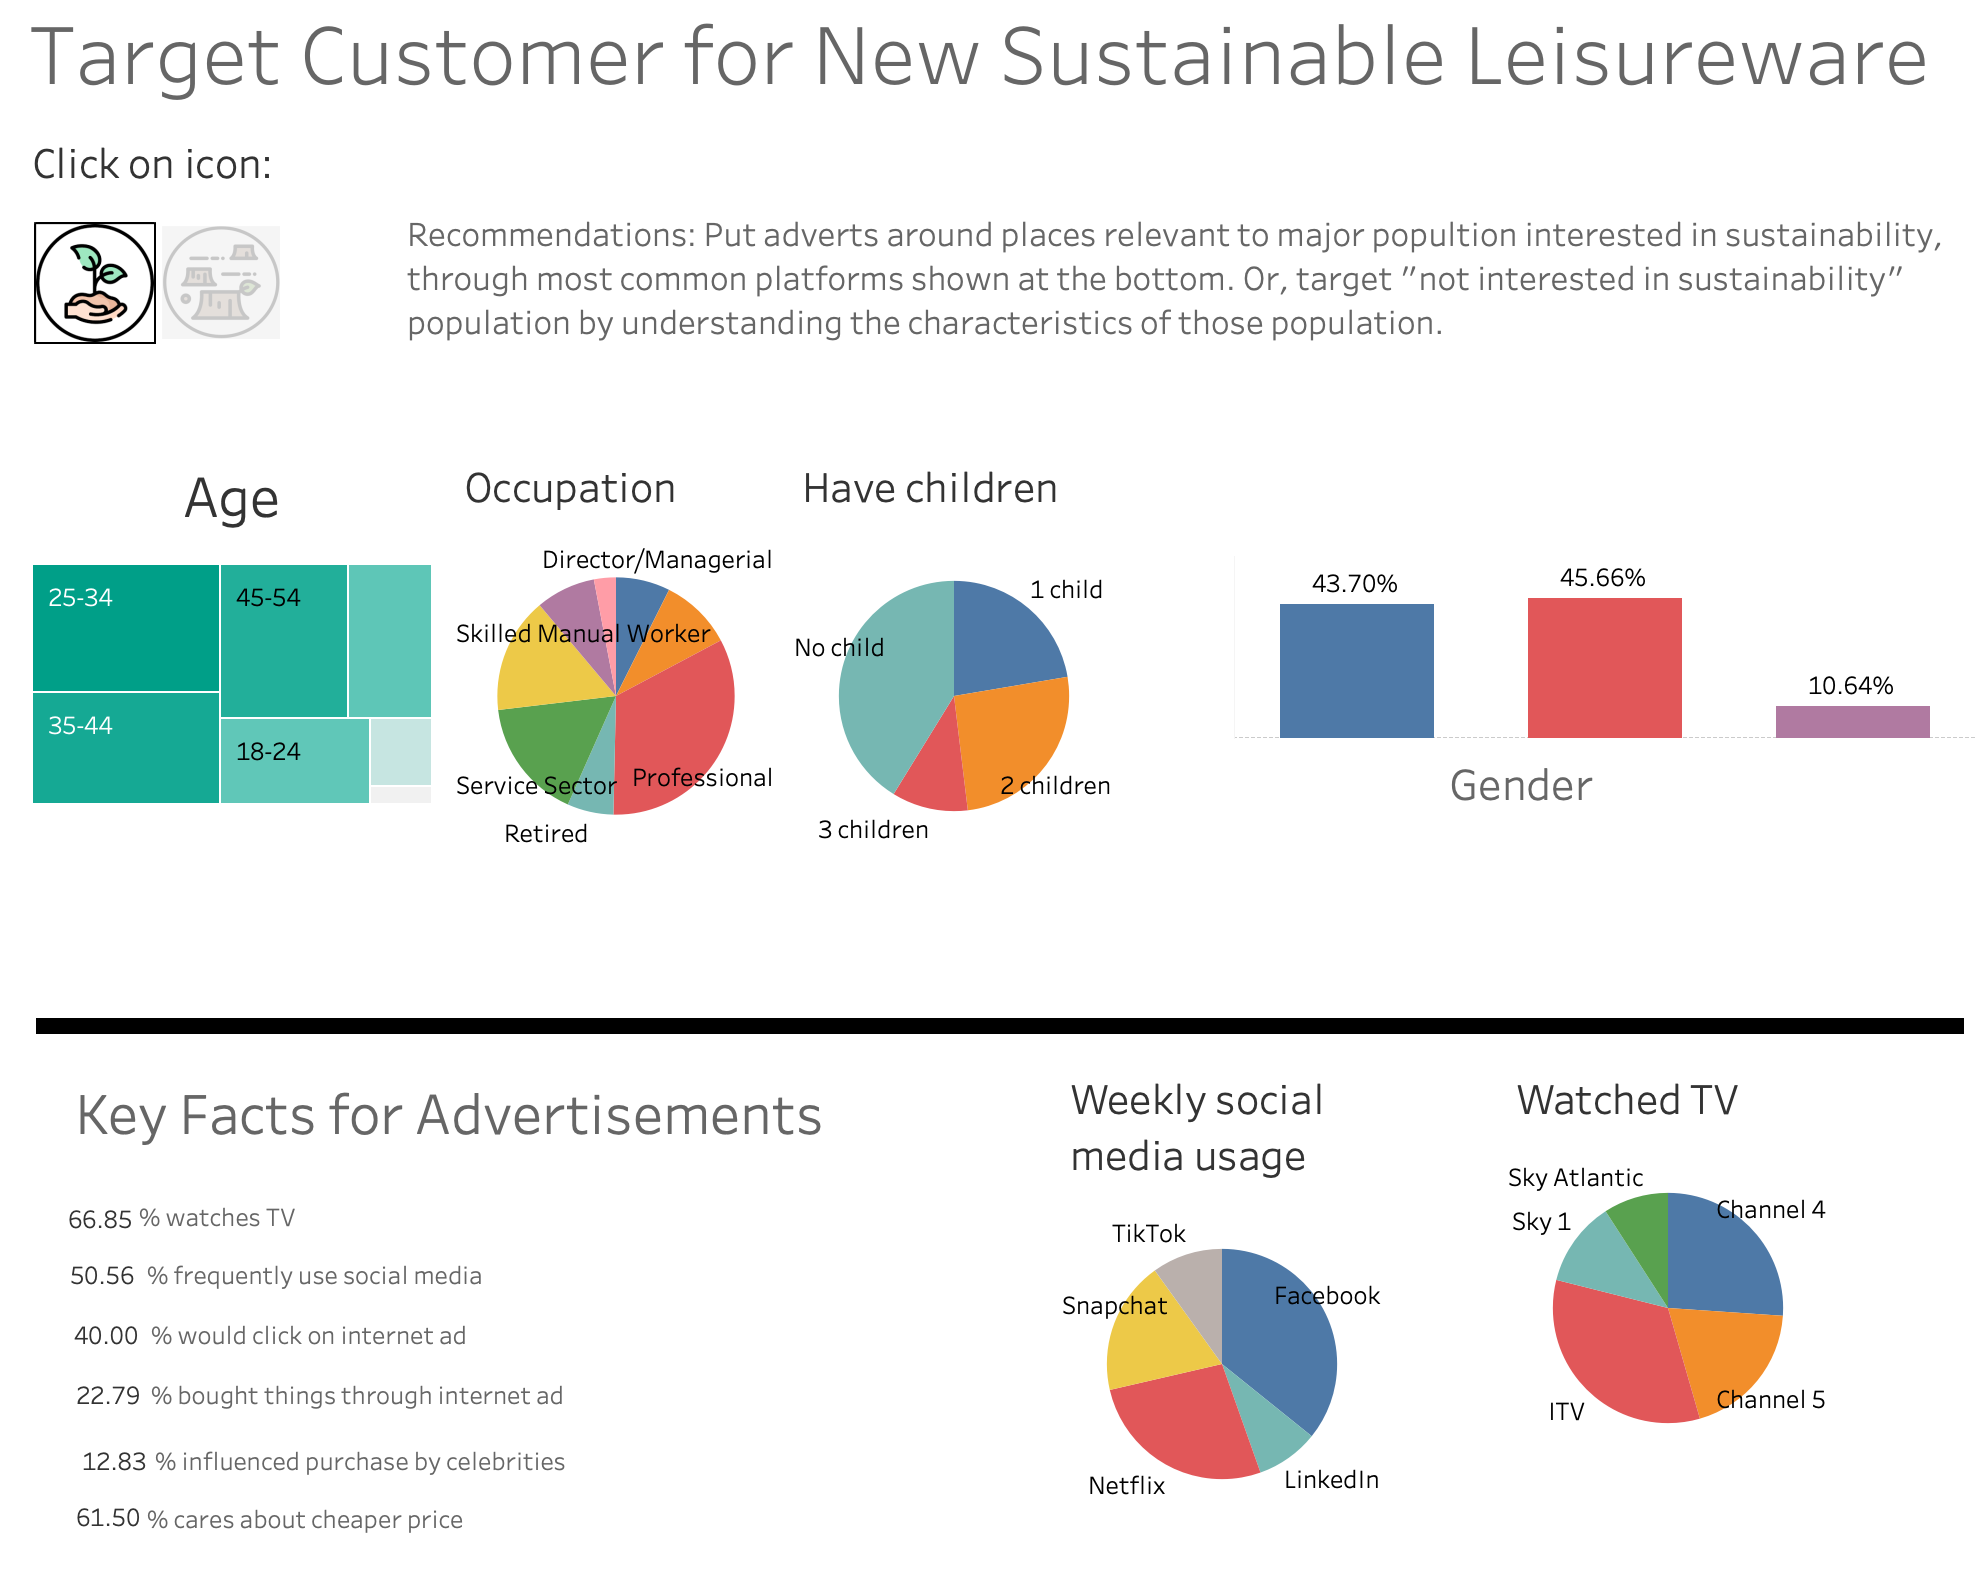

The dashboard page shown, as its layout file describes it:
{"tool":"tableau","page":{"name":"Dashboard 1","canvas":[1000,800],"ordinal":0},"visuals":[{"type":"text","box":[8,8,984,65]},{"type":"worksheet","title":"Sheet 3","mark":"Shape","box":[8,73,188.6,162]},{"type":"text","box":[196.6,73,795.4,162]},{"type":"worksheet","title":"Sheet 2","mark":"Automatic","box":[8,235,216,278.3]},{"type":"worksheet","title":"Sheet 6","mark":"Pie","box":[224,235,169,278.3]},{"type":"worksheet","title":"Sheet 5","mark":"Pie","box":[393,235,190,278.3]},{"type":"worksheet","title":"Sheet 1","mark":"Automatic","rows":["CACI Step Up Dataset 1_1087259707EA4811A2915B943D59BEE5"],"cols":["Gender"],"box":[583,235,409,179]},{"type":"image","param":"/Users/hasegawa.k./Desktop/Screenshot 2022-11-03 at 05.05.55.png","box":[754,255,106,167]},{"type":"image","param":"/Users/hasegawa.k./Desktop/Screenshot 2022-11-03 at 05.06.05.png","box":[623,261,194,198]},{"type":"text","box":[722,390,100,30]},{"type":"blank","box":[583,414,409,99.3]},{"type":"blank","box":[8,513.3,984,28.1]},{"type":"blank","box":[8,541.4,519,250.6]},{"type":"worksheet","title":"Sheet 7","mark":"Pie","box":[527,541.4,223,250.6]},{"type":"worksheet","title":"Sheet 8","mark":"Pie","box":[750,541.4,242,250.6]},{"type":"text","box":[35,546,409,49]},{"type":"worksheet","title":"watch tv","mark":"Automatic","box":[11,571,147,75]},{"type":"text","box":[67,604,100,36]},{"type":"text","box":[71,636,174,30]},{"type":"text","box":[73,666,164,30]},{"type":"text","box":[73,696,212,30]},{"type":"text","box":[75,730,211,29]},{"type":"text","box":[71,758,164,30]}]}

Visuals, with their boxes in screenshot pixels (x1, y1, x2, y2), scaled from the page's 1000x800 canvas onto the 1984x1570 screenshot:
text: bbox=[16, 16, 1968, 143]
"Sheet 3" worksheet (Shape marks): bbox=[16, 143, 390, 461]
text: bbox=[390, 143, 1968, 461]
"Sheet 2" worksheet: bbox=[16, 461, 444, 1007]
"Sheet 6" worksheet (Pie marks): bbox=[444, 461, 780, 1007]
"Sheet 5" worksheet (Pie marks): bbox=[780, 461, 1157, 1007]
"Sheet 1" worksheet: bbox=[1157, 461, 1968, 812]
image: bbox=[1496, 500, 1706, 828]
image: bbox=[1236, 512, 1621, 901]
text: bbox=[1432, 765, 1631, 824]
blank: bbox=[1157, 812, 1968, 1007]
blank: bbox=[16, 1007, 1968, 1062]
blank: bbox=[16, 1062, 1046, 1554]
"Sheet 7" worksheet (Pie marks): bbox=[1046, 1062, 1488, 1554]
"Sheet 8" worksheet (Pie marks): bbox=[1488, 1062, 1968, 1554]
text: bbox=[69, 1072, 881, 1168]
"watch tv" worksheet: bbox=[22, 1121, 313, 1268]
text: bbox=[133, 1185, 331, 1256]
text: bbox=[141, 1248, 486, 1307]
text: bbox=[145, 1307, 470, 1366]
text: bbox=[145, 1366, 565, 1425]
text: bbox=[149, 1433, 567, 1490]
text: bbox=[141, 1488, 466, 1546]
